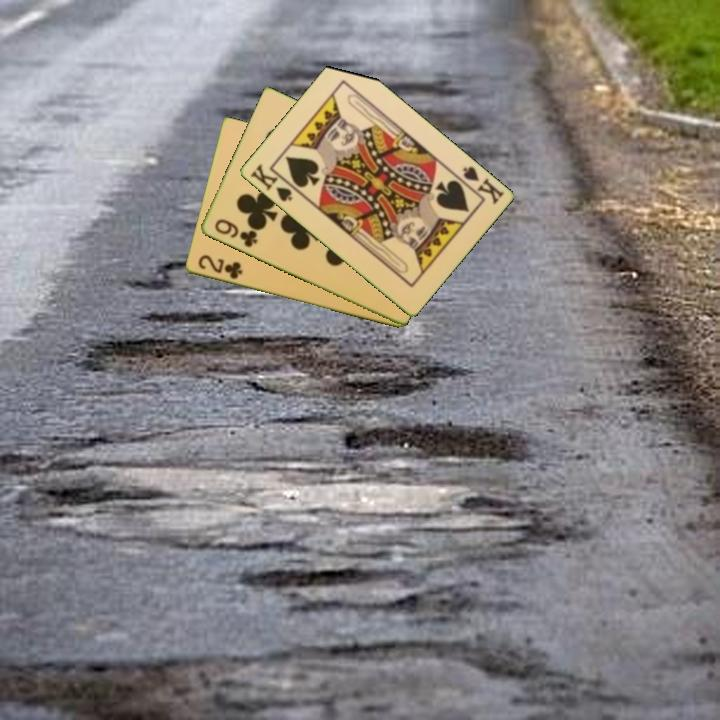2c: (194, 251, 245, 282)
9c: (211, 215, 260, 251)
Ks: (452, 163, 506, 208), (246, 160, 295, 205)
